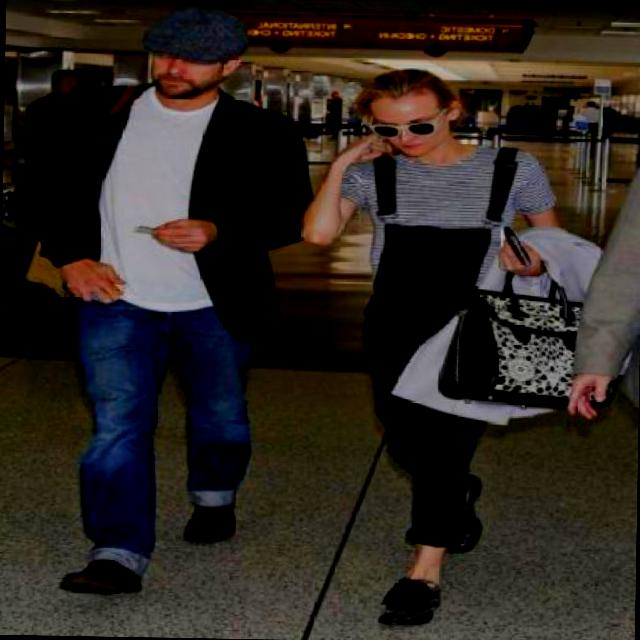Person: (19, 0, 318, 638), (315, 36, 594, 640)
